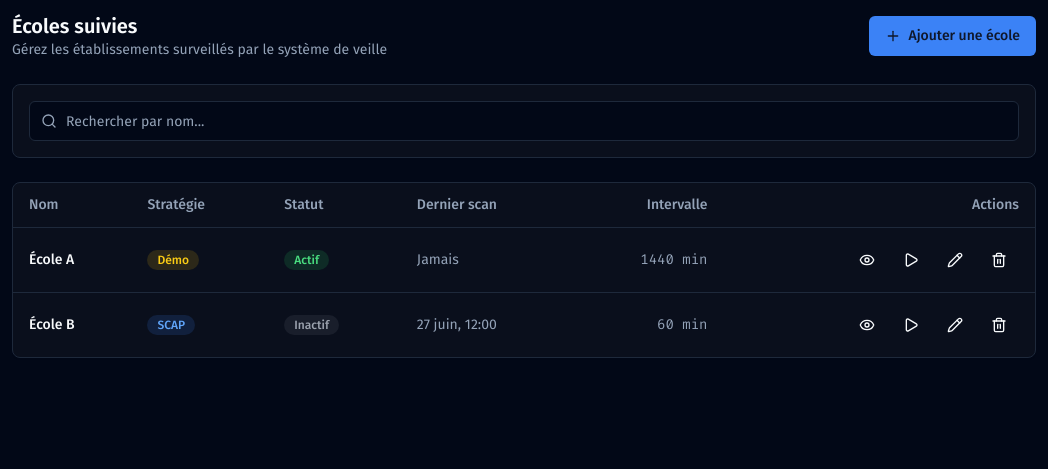
SchoolsPage › shows fallback error text when error_msg is null
expect the text "École A" is shown: met, box [13, 228, 131, 292]
Click the button titled "Lancer un scan" in the row of "École A" at (911, 260), box [891, 240, 931, 280]
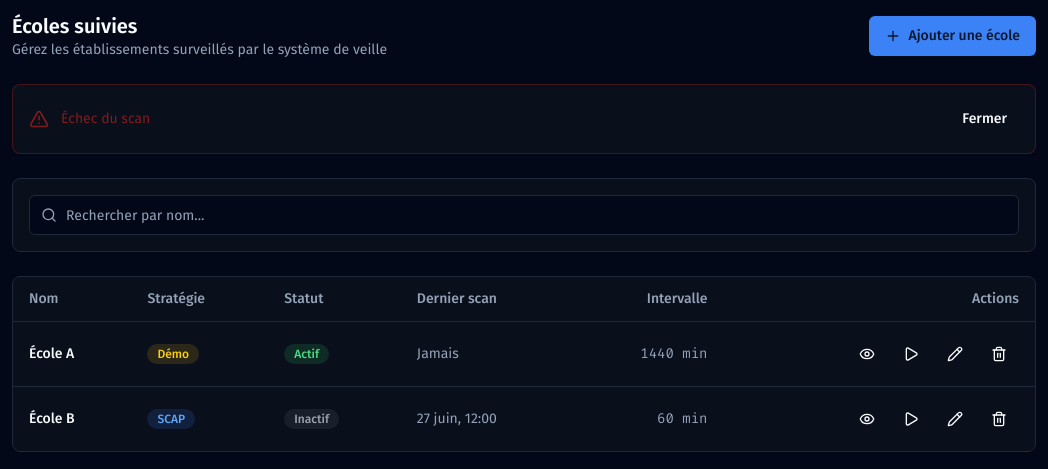
expect the text "Échec du scan" is shown: met, box [61, 109, 150, 129]
